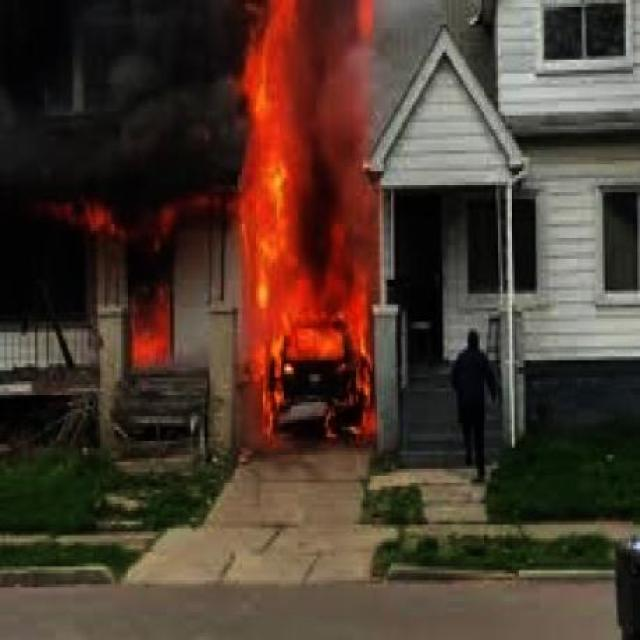Fire: (244, 0, 373, 424), (39, 188, 240, 250), (139, 287, 176, 381)
Smoke: (0, 0, 241, 186), (316, 6, 400, 220)
